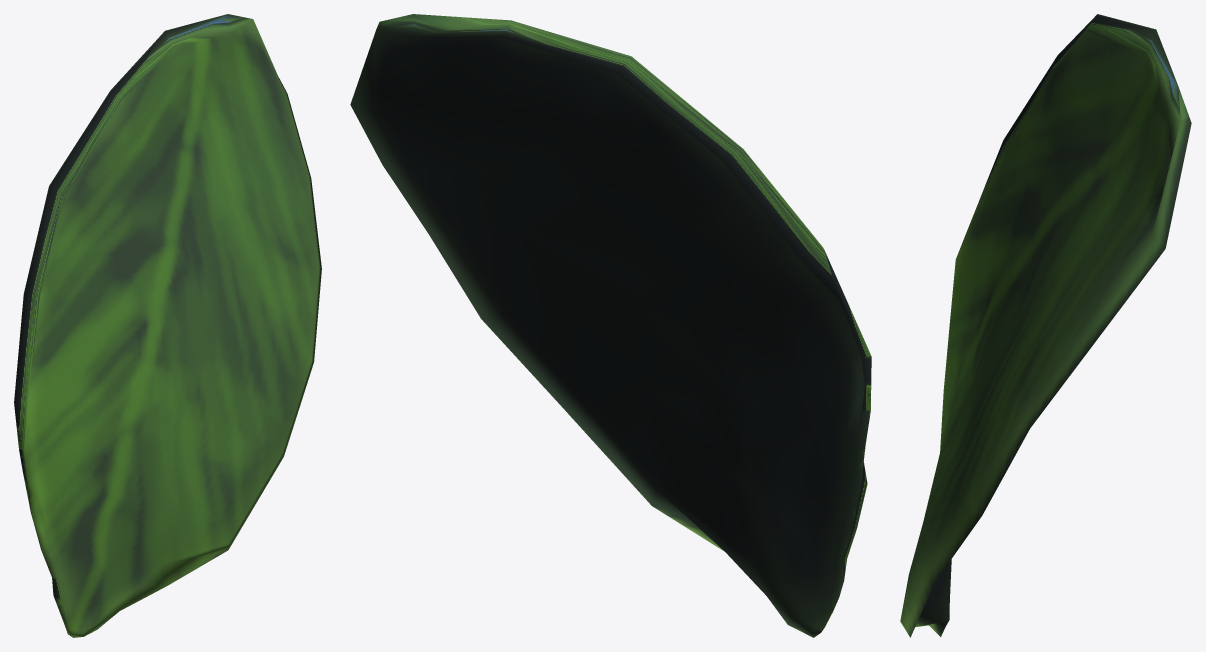
3 renders of one model, left to right at view 1: azimuth 30°, elevation 25°; view 2: azimuth 150°, elevation 25°; view 3: azimuth 270°, elevation 25°, orthographic. The views are drawn at different scales.
Visible parts, largest first — view 1: hortensja.004; view 2: hortensja.004; view 3: hortensja.004.
Boxes of the visible parts, x1,y1,x2,y2 form: hortensja.004: (14, 14, 321, 637); hortensja.004: (350, 14, 871, 637); hortensja.004: (900, 14, 1191, 637).
Size of the model in its own units: 0.7976 by 1.12 by 0.4171.
Materials: 1 (1 with a texture image).
